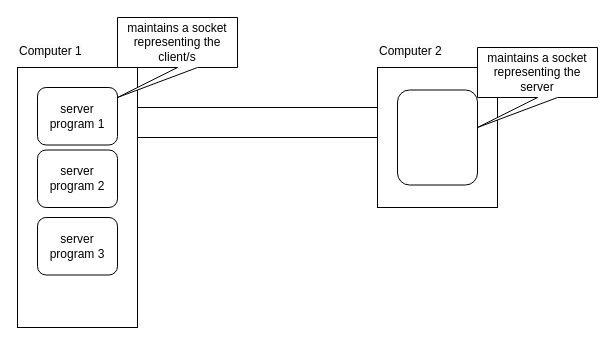
The diagram is 615 pixels wide and 345 high, and some of its shapes have lost their labels. The shapes that lost their labels are listed below. From the top down, each one's box as (x1, y1, x2, y2) in pixels, then its label:
(136, 106, 378, 138): Network
(396, 89, 478, 185): client program
